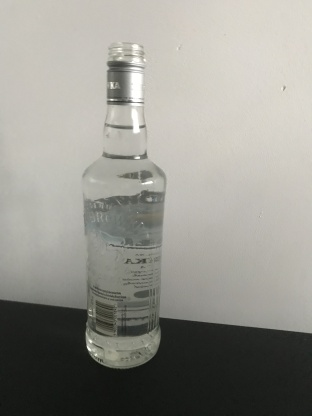nakretka: (104, 41, 147, 107)
